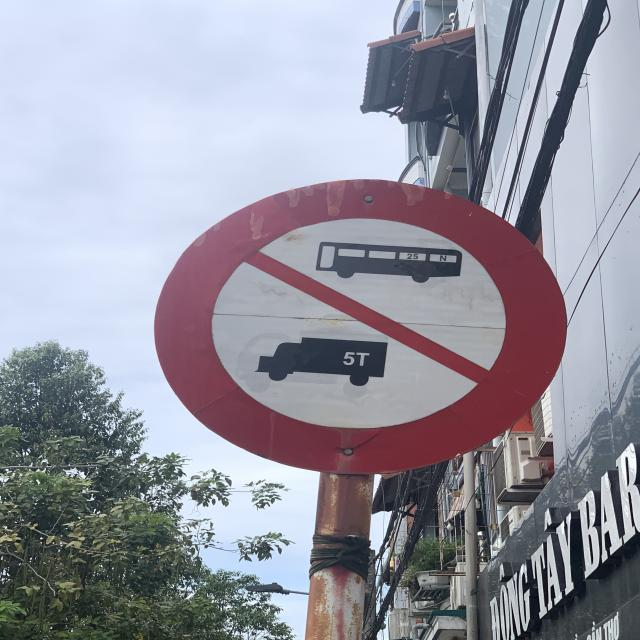Cam_XeTai_XeKhach: (149, 177, 571, 477)
